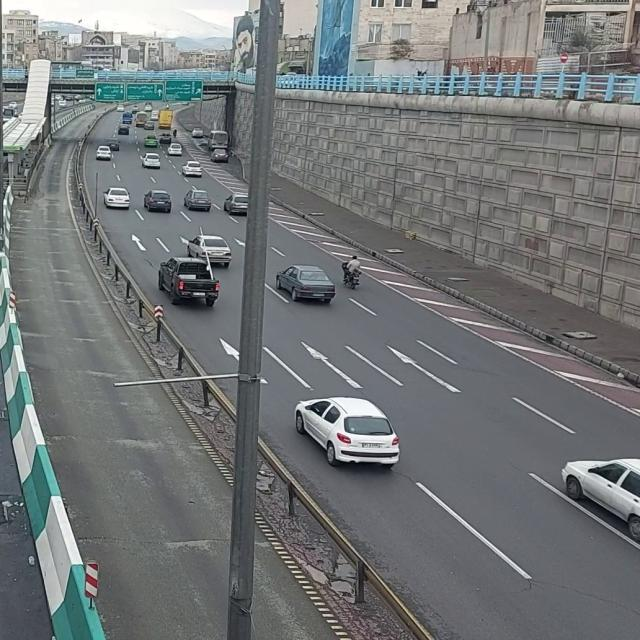Car: (290, 394, 402, 471), (275, 263, 338, 305), (144, 189, 175, 215), (102, 184, 133, 210), (183, 188, 213, 214), (222, 191, 248, 219)
Motorcycle: (340, 252, 366, 291)
Pickup: (158, 256, 222, 309)
